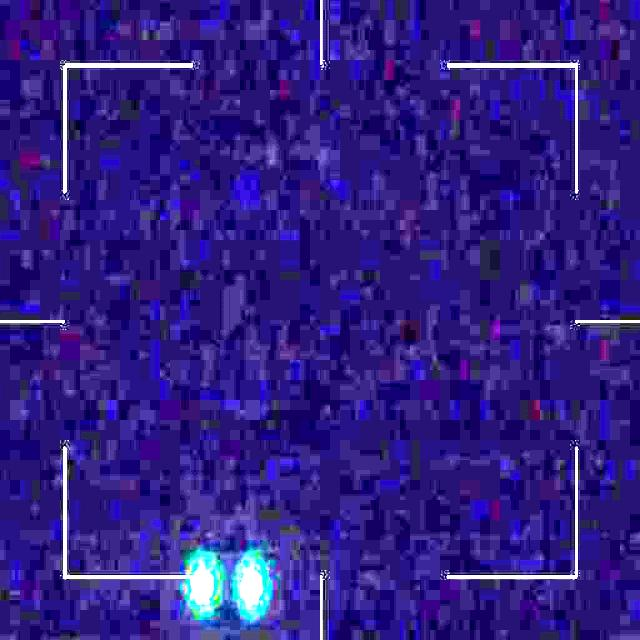bird: (189, 561, 265, 611)
